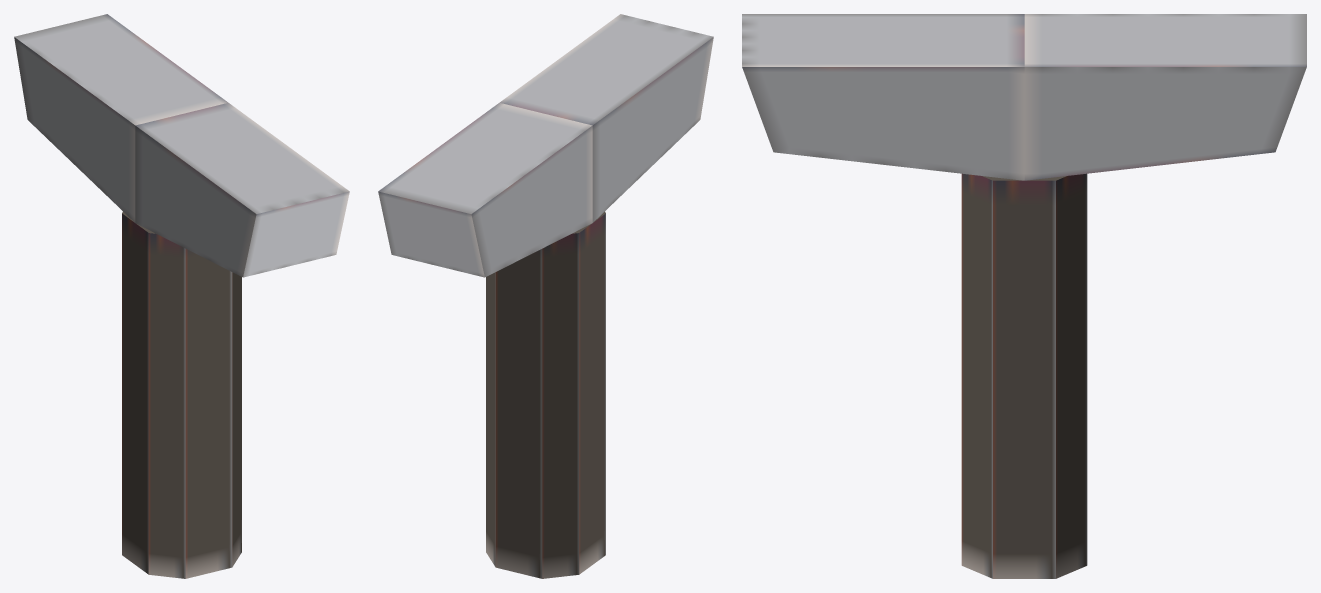
The model's file is sword_handle.obj.
The picture shows the model from 3 angles, left to right: view 1: azimuth 30°, elevation 25°; view 2: azimuth 150°, elevation 25°; view 3: azimuth 270°, elevation 25°; orthographic projection. The views are drawn at different scales.
Visible parts, largest first — view 1: sword_handle; view 2: sword_handle; view 3: sword_handle.
Boxes of the visible parts, x1,y1,x2,y2 form: sword_handle: (14,14,349,578); sword_handle: (378,14,713,578); sword_handle: (742,14,1306,578).
Bounding box in the file's own units: 1 × 4.5 × 4.5.
1 material, 1 textured.
